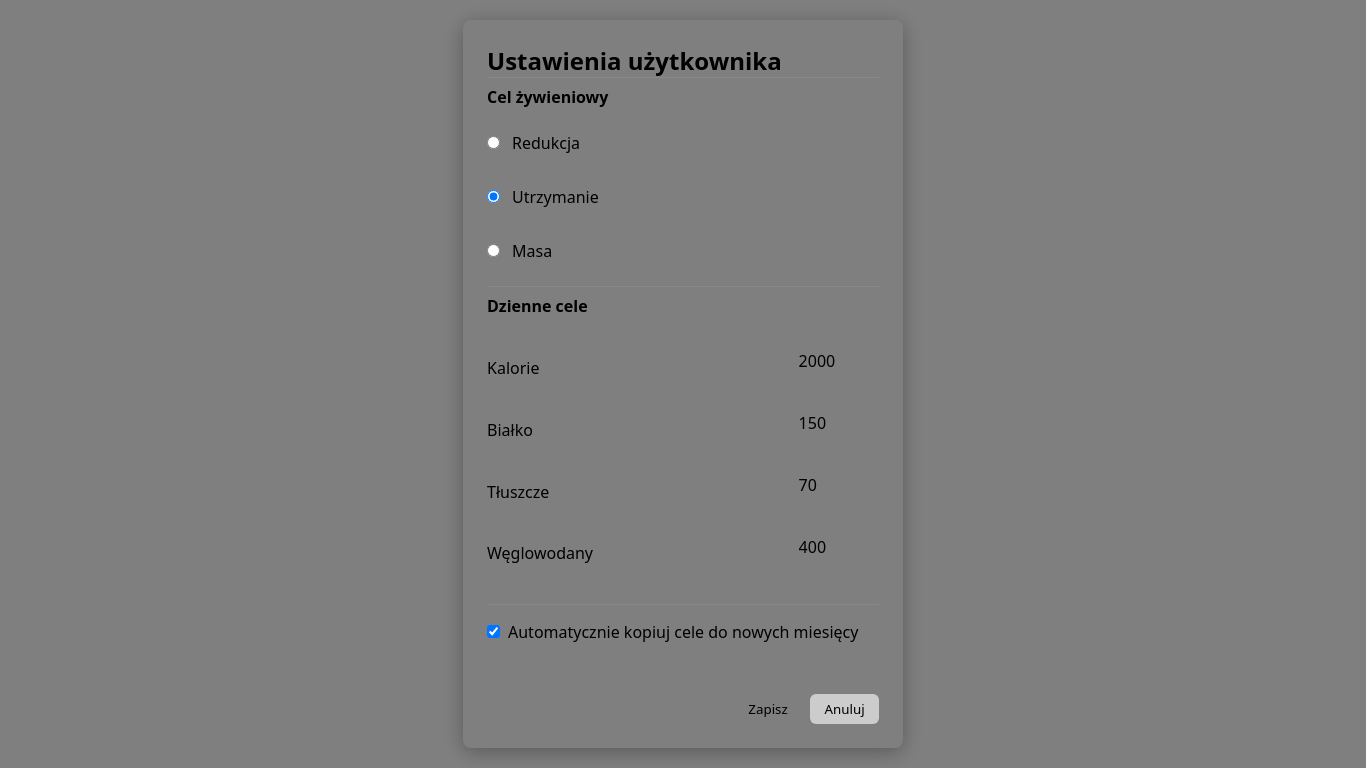
Test: UserSettingsModal frontend validation › shows error when one target is 0
Expected: the radio button labelled "Utrzymanie" is checked, top-left (487, 190), bottom-right (500, 203)
Replace the text in the number field labelled "Kalorie" with "0" at (834, 361), box top-left (789, 344), bottom-right (879, 379)
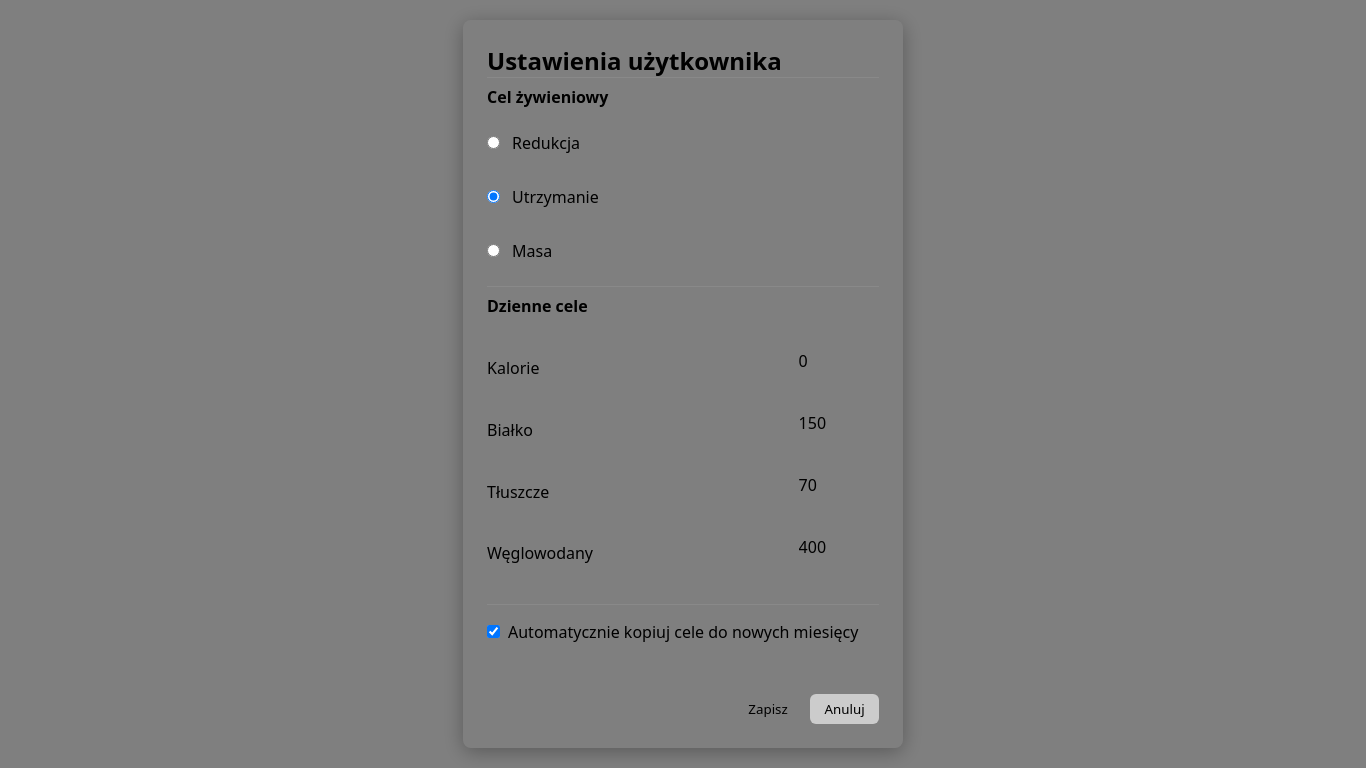
Click the button "Zapisz" at (768, 709), box top-left (734, 694), bottom-right (802, 724)
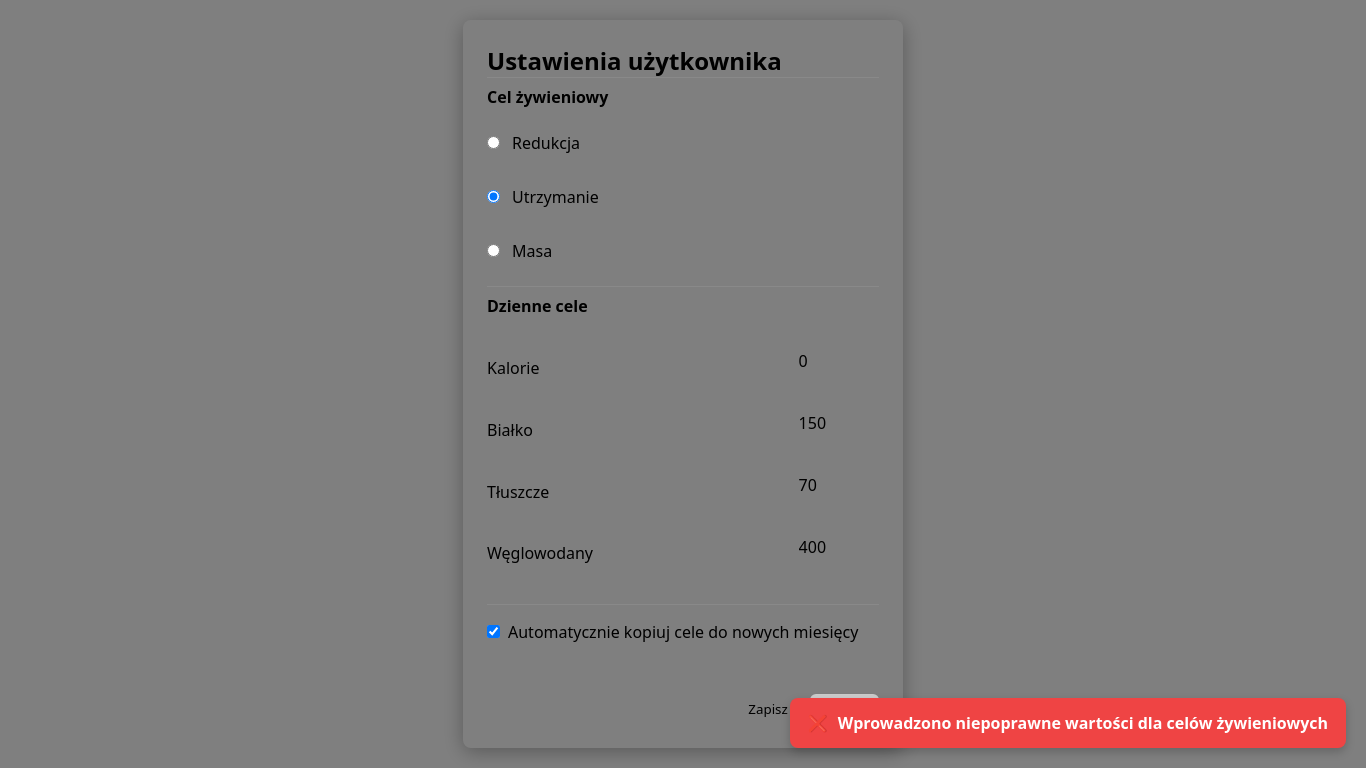
Expected: the text "Wprowadzono niepoprawne wartości dla celów żywieniowych" is shown, top-left (838, 712), bottom-right (1328, 734)
